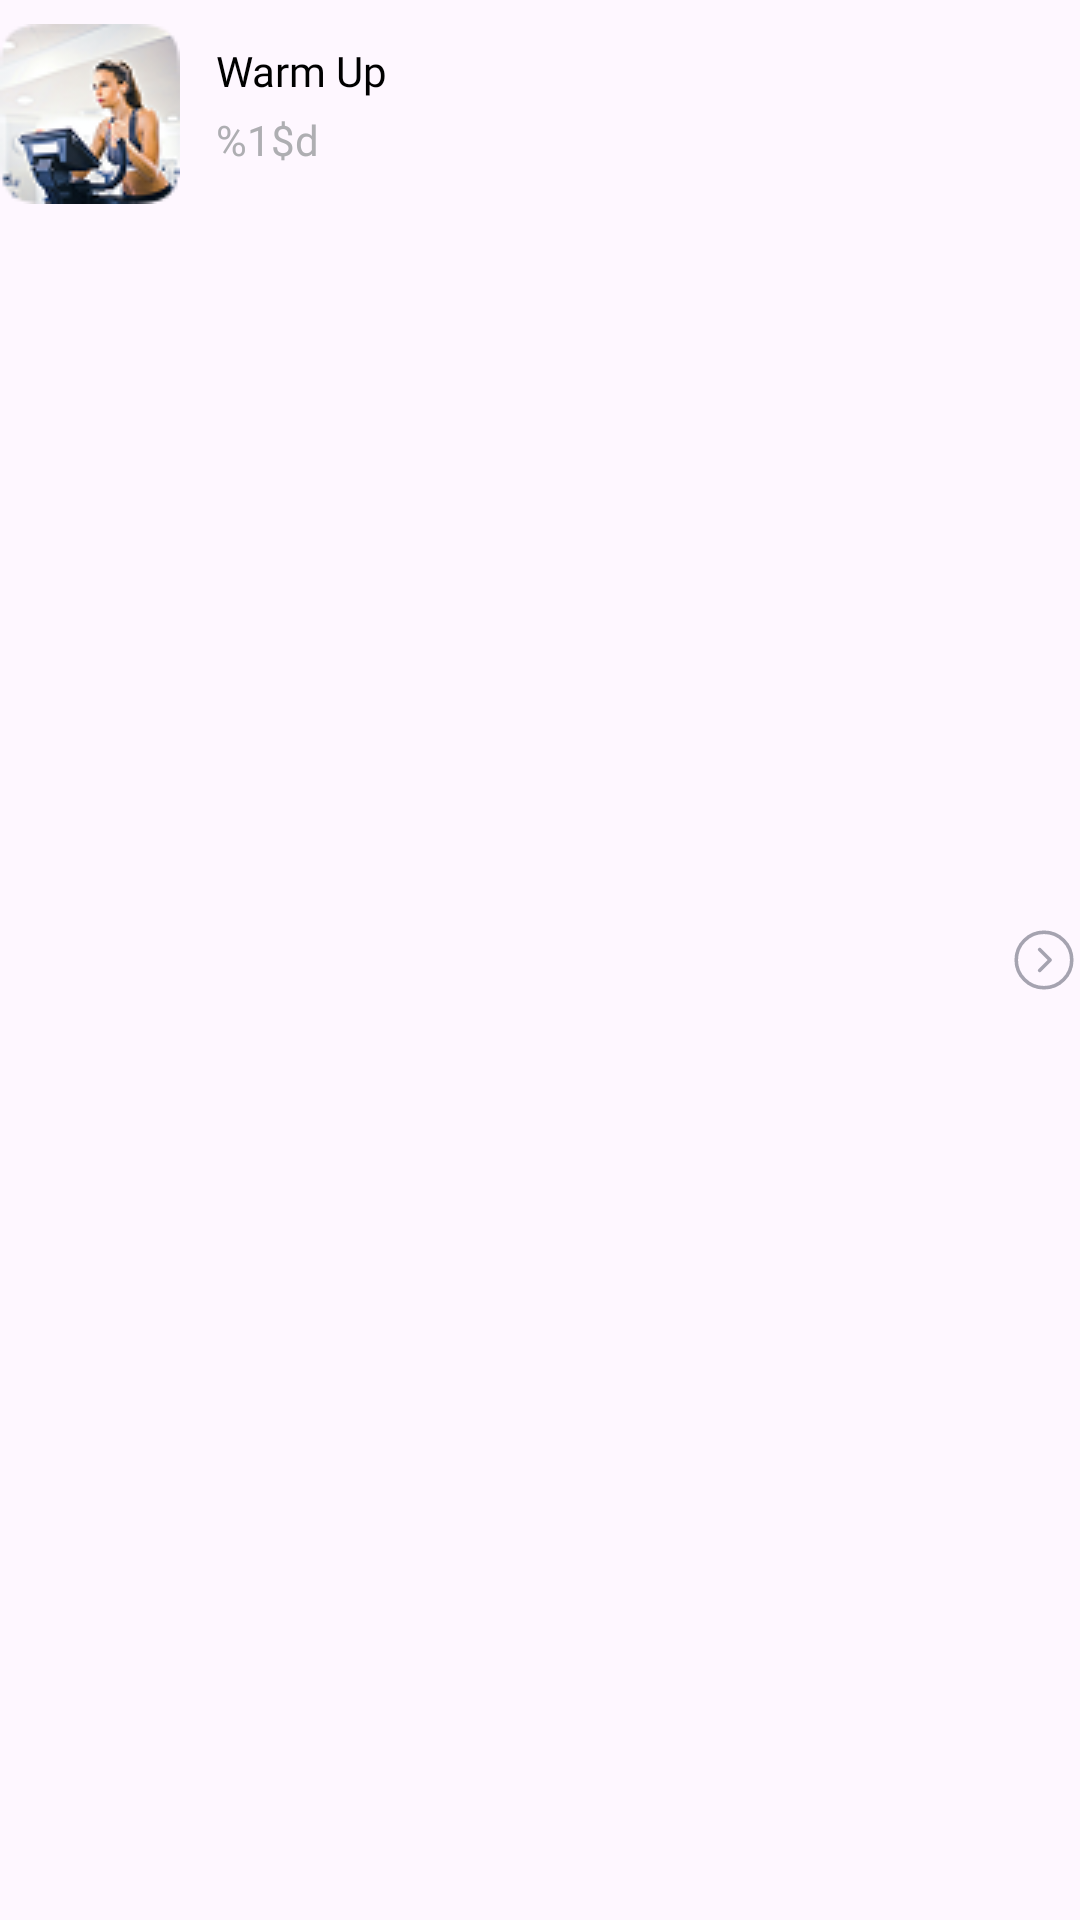

Locate icon controls on the screen. Image size 1080x1920, boxes as box(x1, y1, x2, y2).
next: box(1014, 930, 1074, 990)
